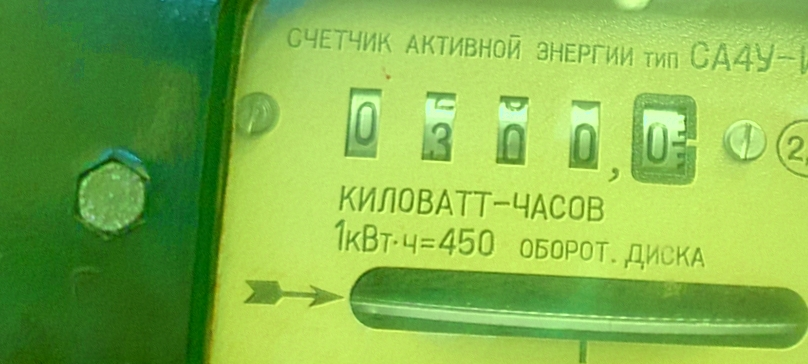0: (351, 96, 380, 149), (497, 118, 527, 168), (642, 118, 672, 168), (568, 121, 599, 168)
3: (425, 118, 455, 163)
screen: (323, 69, 708, 195)
